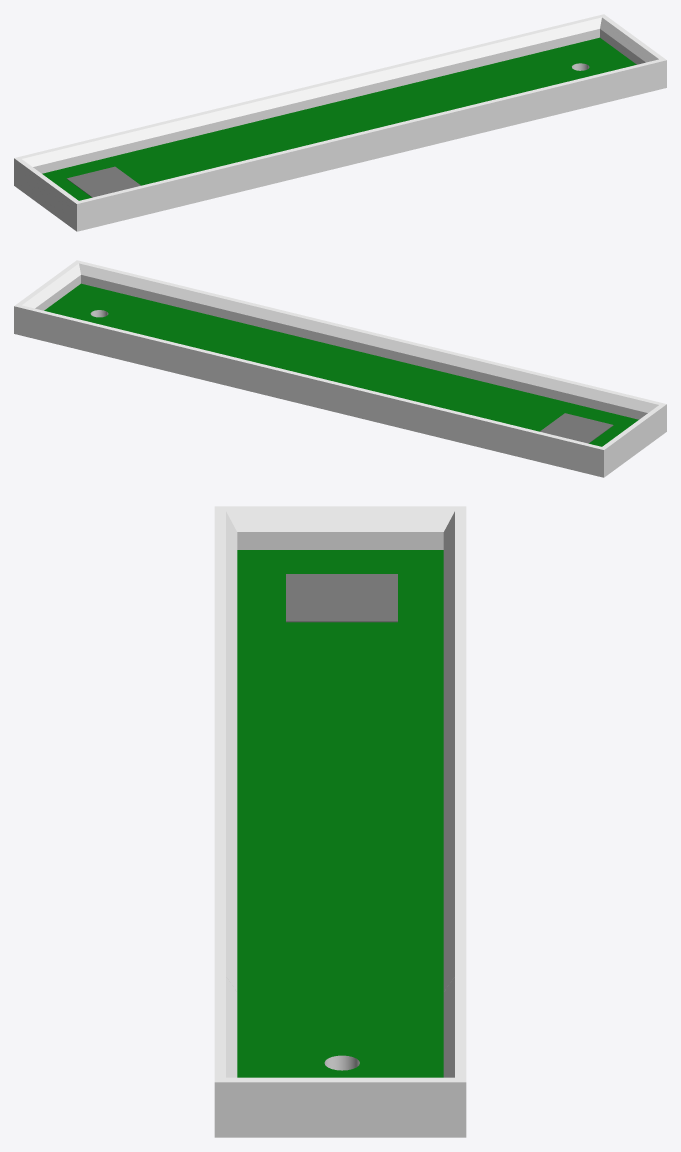
File: Level1Model.obj
The picture shows the model from 3 angles, top to bottom: view 1: azimuth 30°, elevation 25°; view 2: azimuth 150°, elevation 25°; view 3: azimuth 270°, elevation 25°; orthographic projection. The views are drawn at different scales.
Parts seen in each view (by area): view 1: Level1:pCube159; view 2: Level1:pCube159; view 3: Level1:pCube159.
Boxes of the visible parts, x1,y1,x2,y2 form: Level1:pCube159: [14, 14, 666, 231]; Level1:pCube159: [14, 260, 666, 477]; Level1:pCube159: [214, 506, 466, 1137].
Size of the model in its own units: 12.14 by 0.5441 by 2.24.
3 materials, 2 textured.
